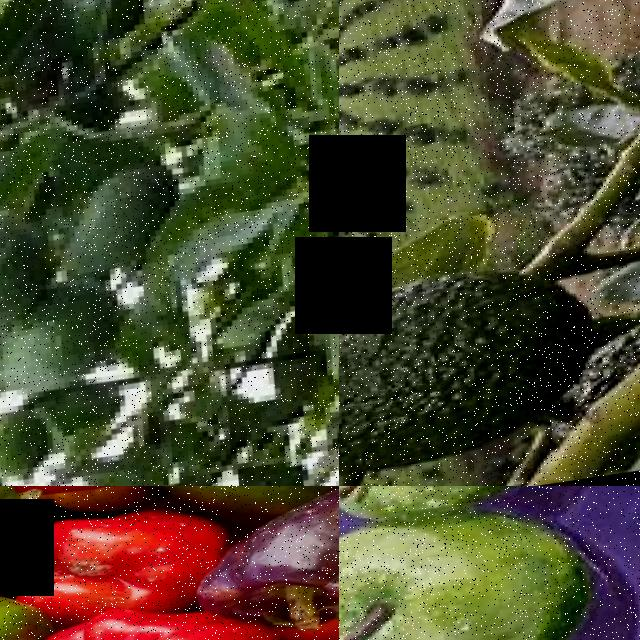apple: (339, 487, 609, 640), (339, 486, 599, 536), (589, 585, 598, 588)
avocado: (339, 251, 580, 486), (36, 149, 201, 292), (0, 280, 127, 401), (563, 295, 640, 479), (0, 193, 61, 344), (0, 401, 61, 486), (278, 0, 339, 66)
bell pepper: (8, 510, 217, 615), (230, 493, 339, 629), (47, 602, 264, 640)
